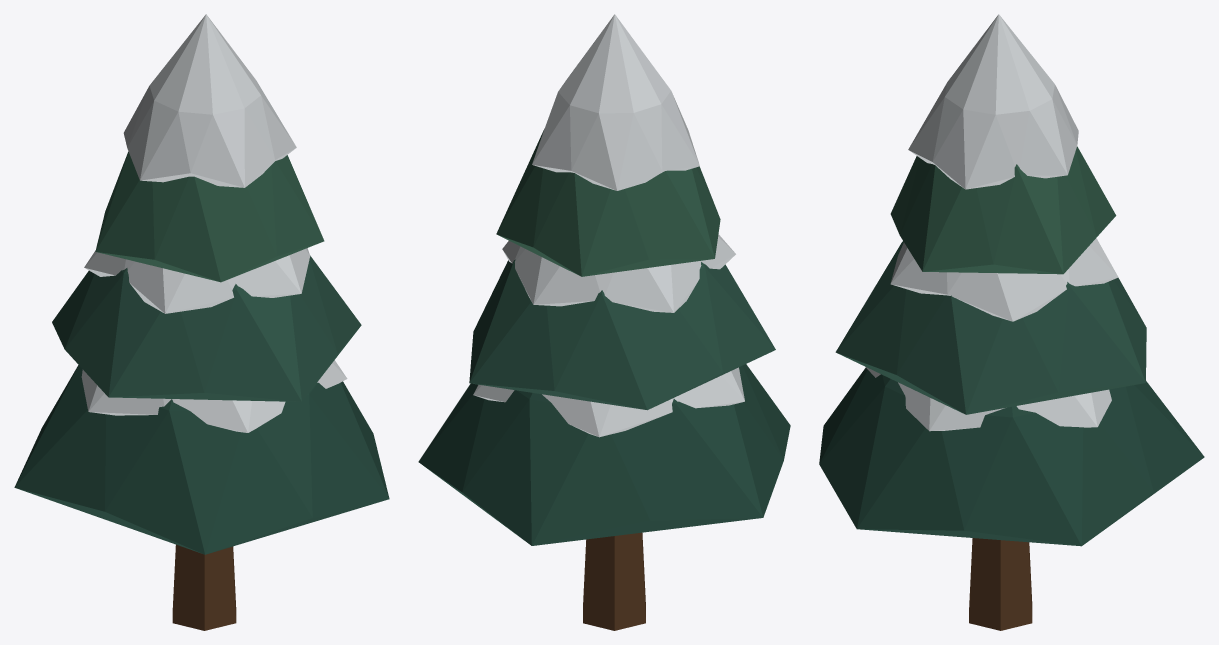
File: pine_a.glb
The picture shows the model from 3 angles, left to right: view 1: azimuth 30°, elevation 25°; view 2: azimuth 150°, elevation 25°; view 3: azimuth 270°, elevation 25°; orthographic projection.
Parts seen in each view (by area): view 1: pine_a; view 2: pine_a; view 3: pine_a.
Boxes of the visible parts, x1,y1,x2,y2 form: pine_a: (14, 14, 389, 630); pine_a: (418, 14, 790, 630); pine_a: (819, 14, 1204, 630).
Bounding box in the file's own units: 1.95 × 3.45 × 2.
